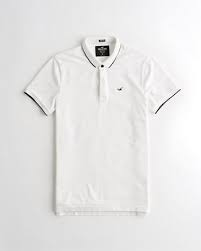C_polo shirt: (28, 36, 183, 215)
